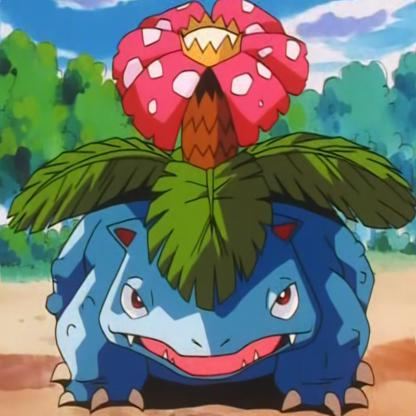Venusaur: (26, 1, 405, 410)
